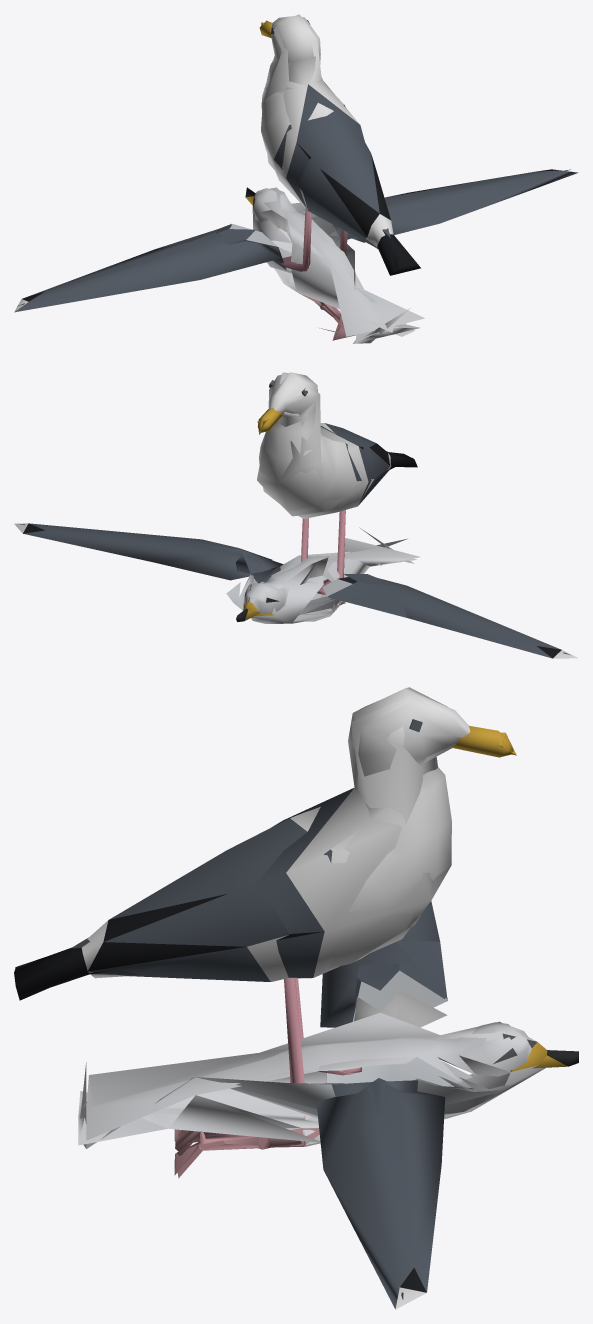
Rendered from gull.glb.
The picture shows the model from 3 angles, top to bottom: view 1: azimuth 30°, elevation 25°; view 2: azimuth 150°, elevation 25°; view 3: azimuth 270°, elevation 25°; orthographic projection. The views are drawn at different scales.
Visible parts, largest first — view 1: stand, fly_wing_l, fly_wing_r, fly, stand_low, fly_low; view 2: stand, fly_wing_r, fly_wing_l, fly_low, stand_low, fly; view 3: stand, fly_low, stand_low, fly_wing_r, fly, fly_wing_l.
Part boxes in pixels (<box>): stand: <box>259,16,420,275</box>; fly_wing_l: <box>14,225,411,343</box>; fly_wing_r: <box>266,169,578,334</box>; fly: <box>245,187,424,342</box>; stand_low: <box>261,14,397,268</box>; fly_low: <box>17,169,570,342</box>; stand: <box>257,372,417,595</box>; fly_wing_r: <box>14,523,407,614</box>; fly_wing_l: <box>299,527,578,658</box>; fly_low: <box>18,523,569,654</box>; stand_low: <box>257,372,413,581</box>; fly: <box>236,538,417,623</box>; stand: <box>14,687,513,1083</box>; fly_low: <box>78,961,547,1299</box>; stand_low: <box>15,695,516,1084</box>; fly_wing_r: <box>86,1076,508,1309</box>; fly: <box>78,990,578,1173</box>; fly_wing_l: <box>83,901,471,1155</box>.
Size of the model in its own units: 1.35 by 0.6142 by 0.6769.
